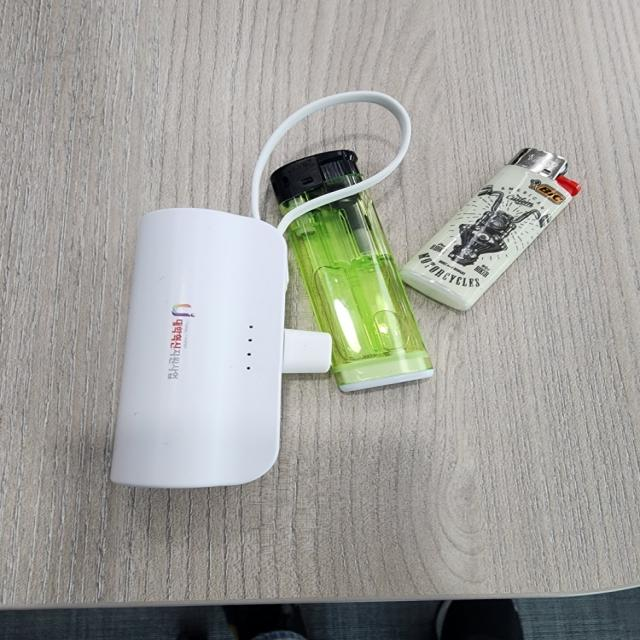lighter: (267, 150, 440, 393), (399, 145, 582, 312)
portable_charger: (109, 196, 330, 488)
